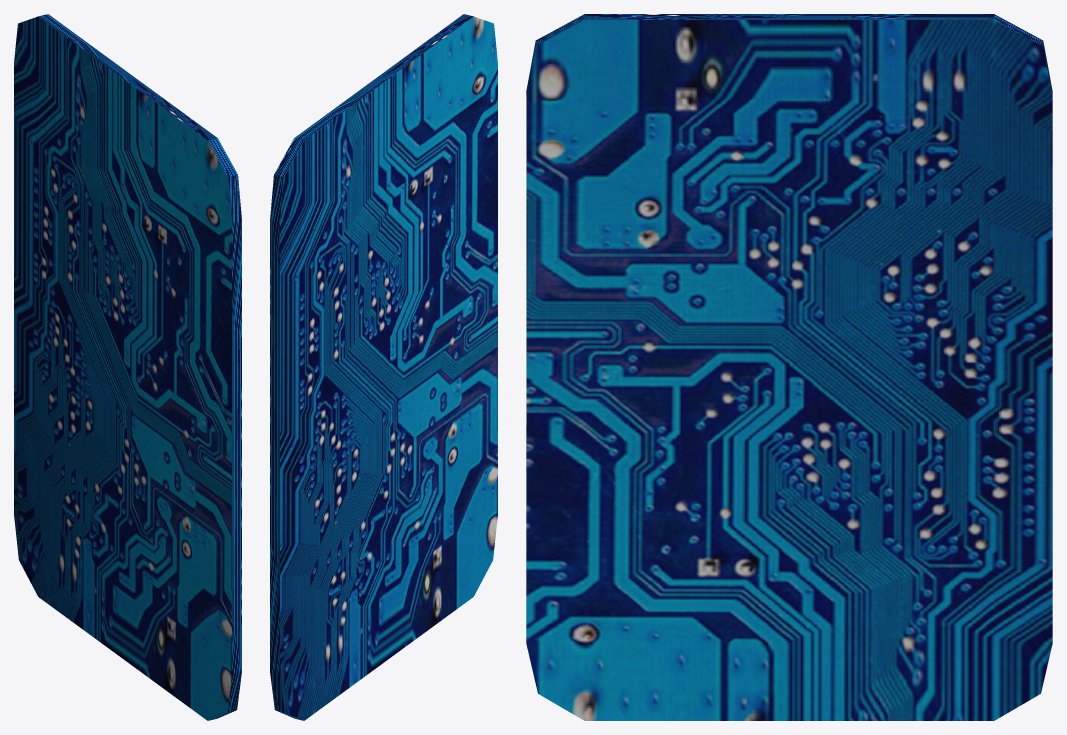
Rendered from Card.fbx.
The picture shows the model from 3 angles, left to right: view 1: azimuth 30°, elevation 25°; view 2: azimuth 150°, elevation 25°; view 3: azimuth 270°, elevation 25°; orthographic projection. The views are drawn at different scales.
Visible parts, largest first — view 1: Cube; view 2: Cube; view 3: Cube.
Part boxes in pixels (x1,y1,x2,y2): Cube: (14,14,241,720); Cube: (270,14,497,720); Cube: (526,14,1052,720).
Bounding box in the file's own units: 36.14 × 2000 × 1361.
Materials: 1 (1 with a texture image).
